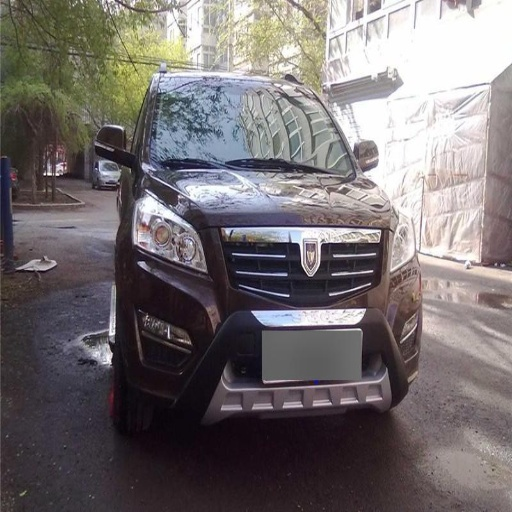front_bumper: (128, 227, 418, 416)
front_right_light: (133, 190, 208, 273)
hood: (144, 166, 393, 228)
